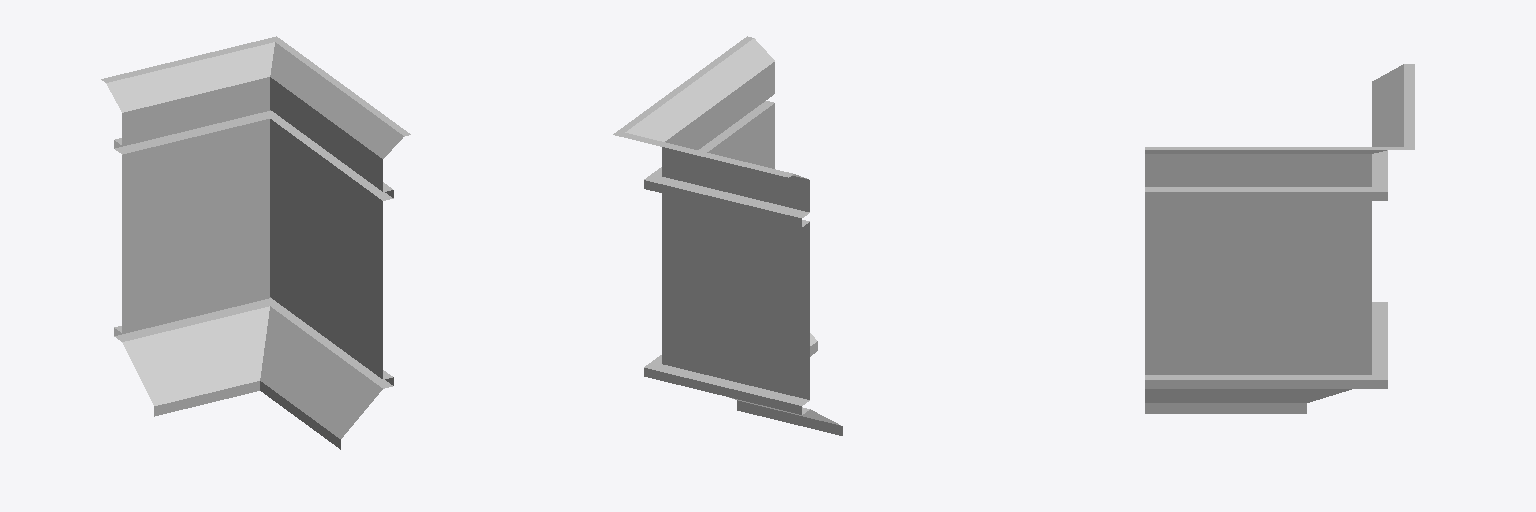
The model's file is skirting-2.obj.
3 views of the same model, side by side, from view 1: azimuth 30°, elevation 25°; view 2: azimuth 150°, elevation 25°; view 3: azimuth 270°, elevation 25° (orthographic).
Visible parts, largest first — view 1: SMB_Concave; view 2: SMB_Concave; view 3: SMB_Concave.
Part boxes in pixels (bbox=[...]): SMB_Concave: bbox=[101, 36, 410, 449]; SMB_Concave: bbox=[613, 36, 842, 435]; SMB_Concave: bbox=[1145, 64, 1414, 413].
Size of the model in its own units: 0.5108 by 0.8247 by 0.6754.